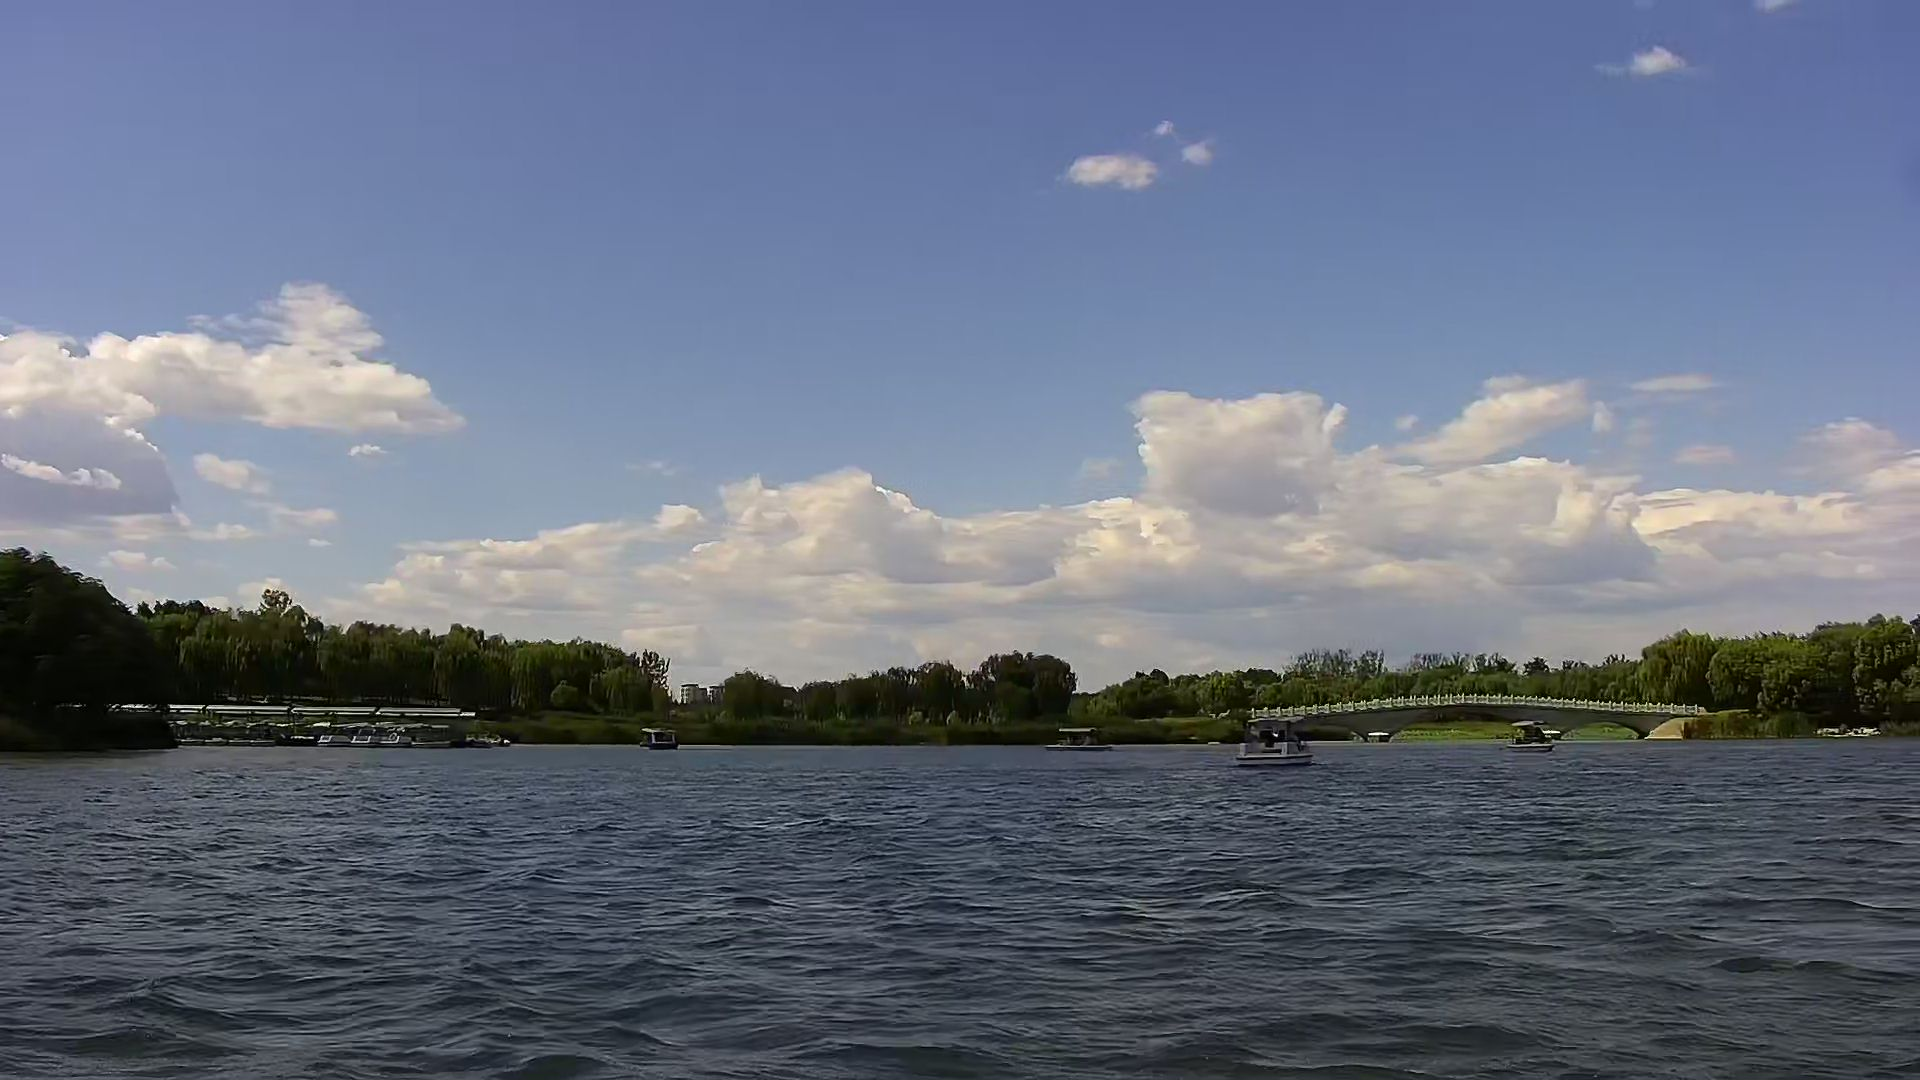boat: (1232, 723, 1311, 767), (1039, 723, 1116, 757), (1505, 716, 1553, 752), (638, 721, 680, 752)
bridge: (1241, 684, 1713, 742)
harbor: (127, 691, 505, 754)
